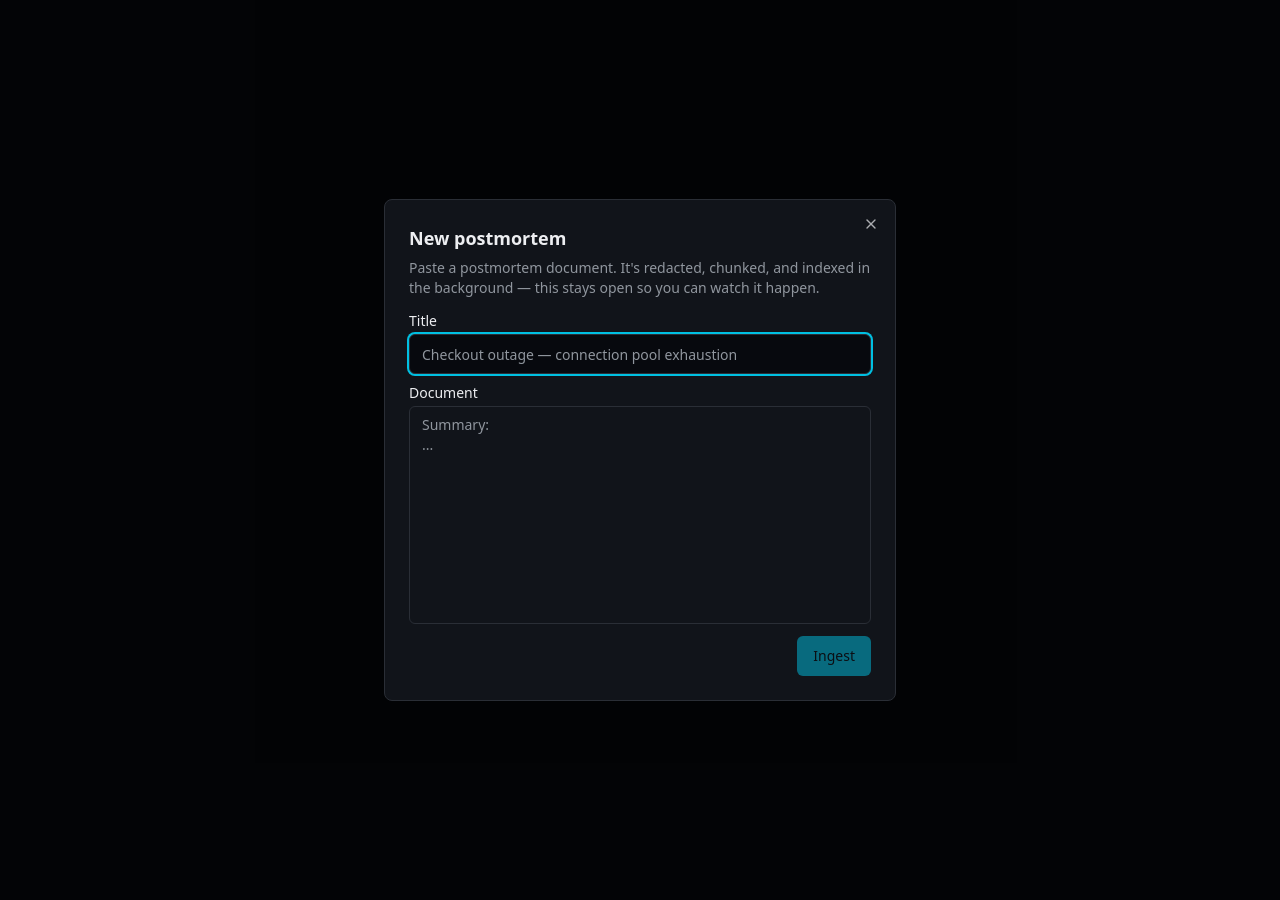
Scenario: NewPostmortemModal › shows the failure reason when ingestion fails
In the field labelled "Title": (640, 354) [409,334,871,374], type "t"
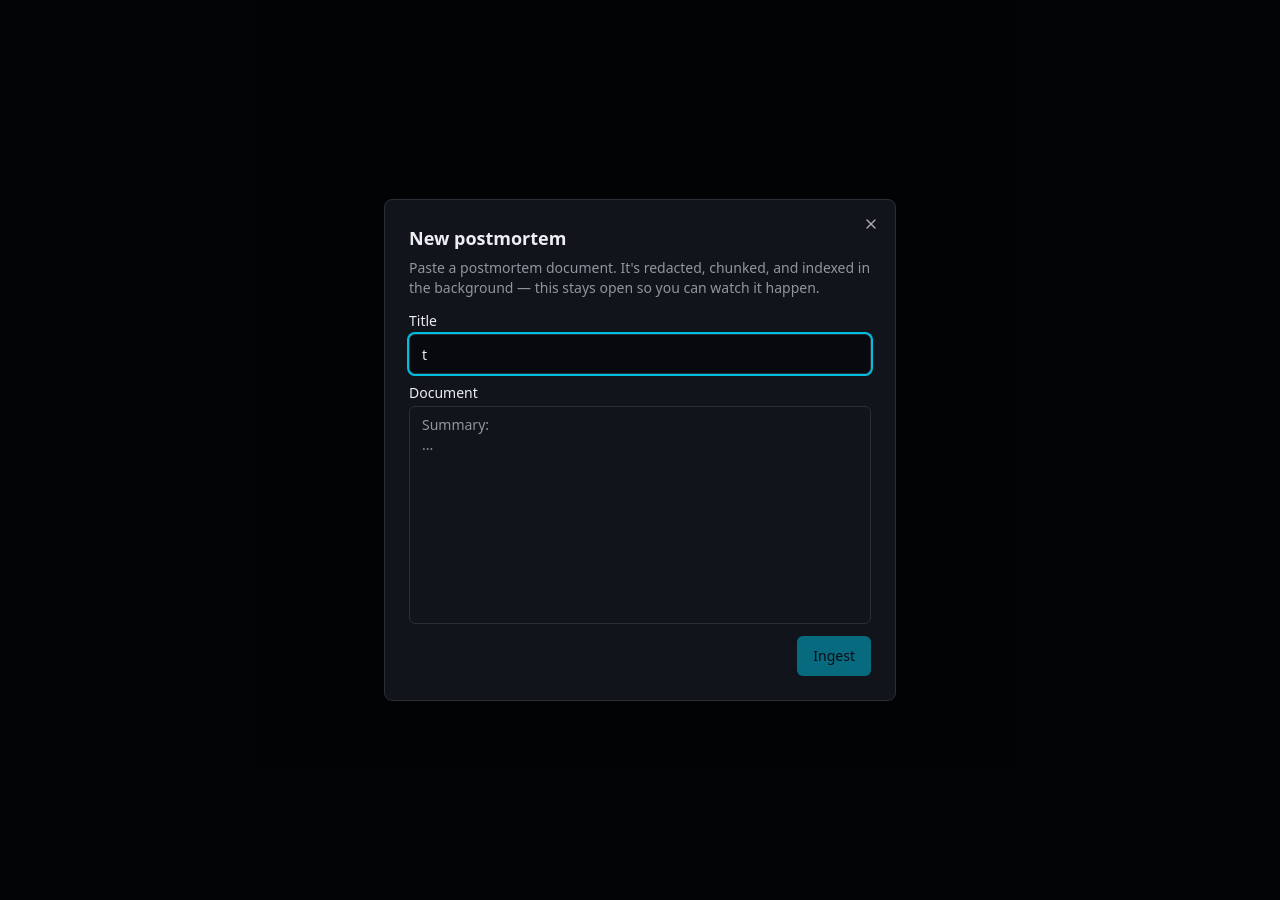
In the text box labelled "Document": (640, 515) [409,406,871,624], type "d"
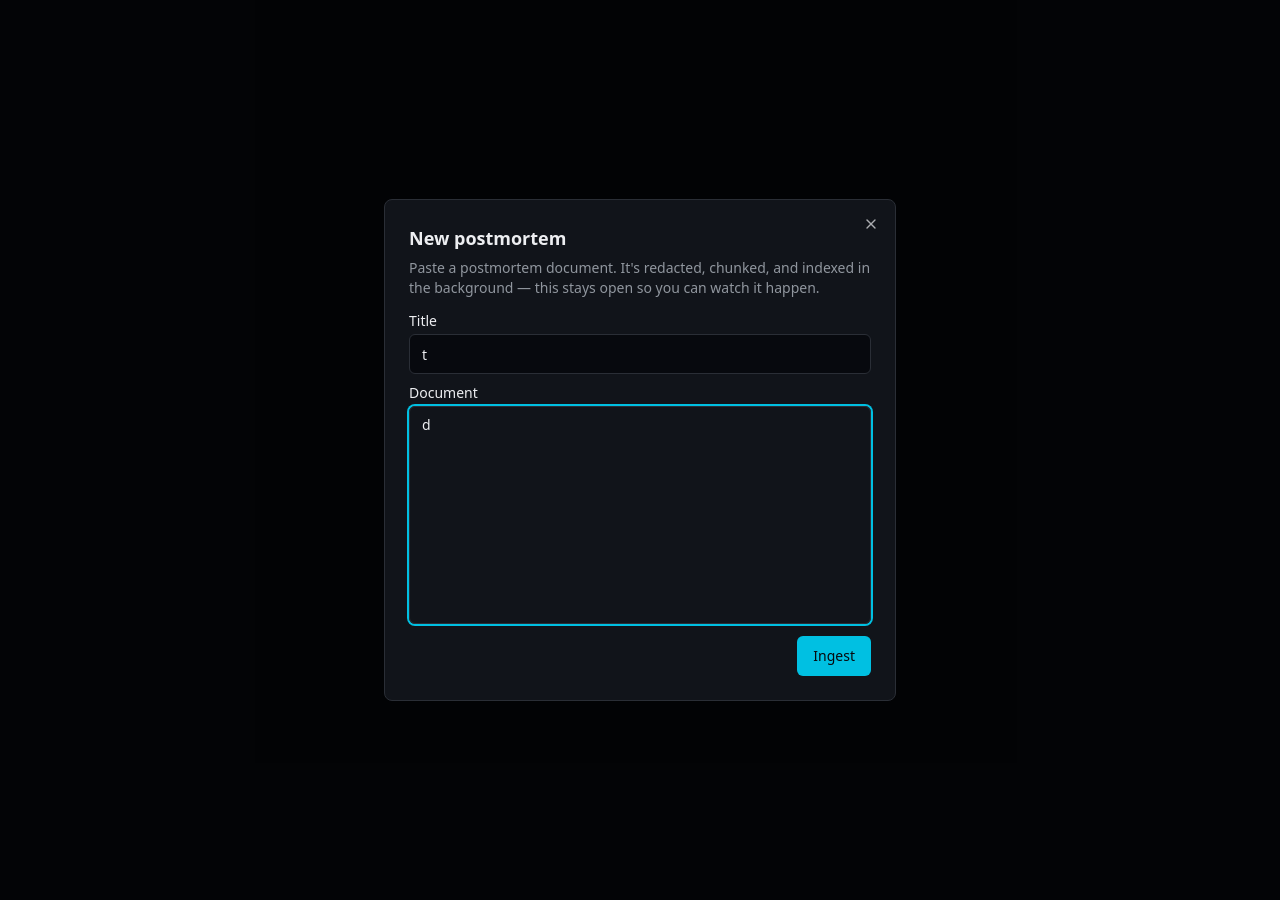
Click the button "Ingest": (834, 656) [797,636,871,676]
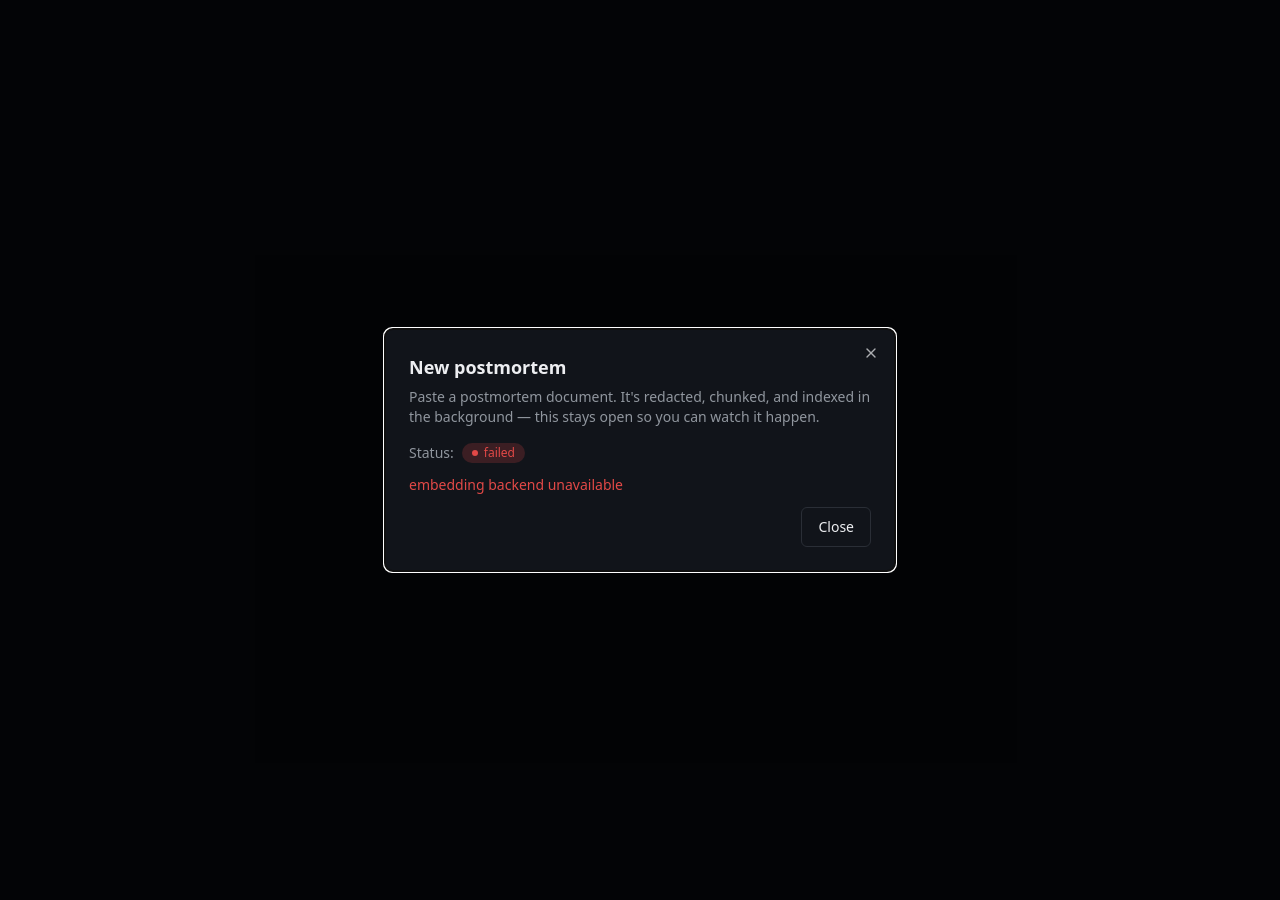
Expected: the text "embedding backend unavailable" is shown, [409,475,623,494]
